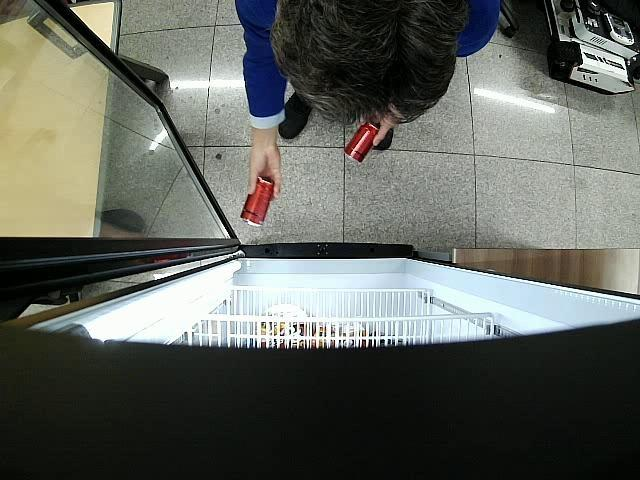11_cocaColaZero: (240, 176, 274, 228), (345, 123, 380, 163)
